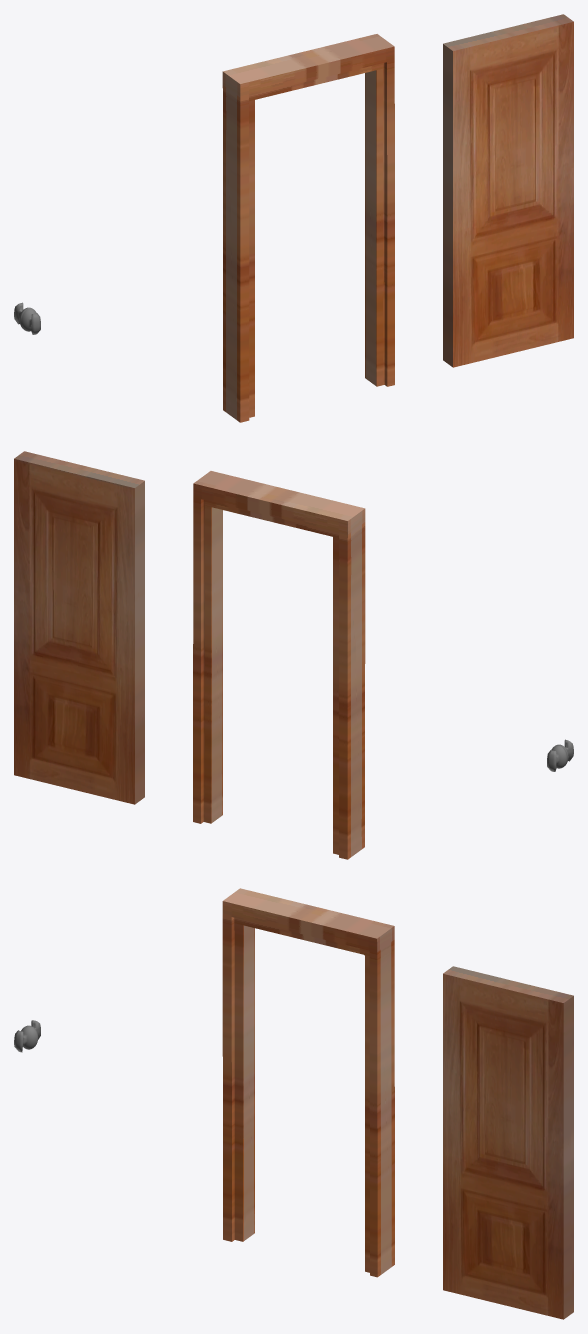
Rendered from Porta.fbx.
The picture shows the model from 3 angles, top to bottom: view 1: azimuth 30°, elevation 25°; view 2: azimuth 150°, elevation 25°; view 3: azimuth 330°, elevation 25°; orthographic projection.
Visible parts, largest first — view 1: node_id81, node_id77 (×3), node_id83; view 2: node_id81, node_id77 (×3), node_id83; view 3: node_id81, node_id77 (×3), node_id83.
Boxes of the visible parts, x1=… form: node_id81: x1=443, y1=14, x2=573, y2=367; node_id77 (×3): x1=222, y1=34, x2=394, y2=422; node_id83: x1=14, y1=302, x2=40, y2=334; node_id81: x1=14, y1=451, x2=144, y2=804; node_id77 (×3): x1=193, y1=471, x2=365, y2=859; node_id83: x1=547, y1=739, x2=573, y2=771; node_id81: x1=443, y1=966, x2=573, y2=1319; node_id77 (×3): x1=222, y1=888, x2=394, y2=1277; node_id83: x1=14, y1=1020, x2=40, y2=1052.
Bounding box in the file's own units: 0.512 × 0.3025 × 0.0306.
Materials: 5 (4 with a texture image).
